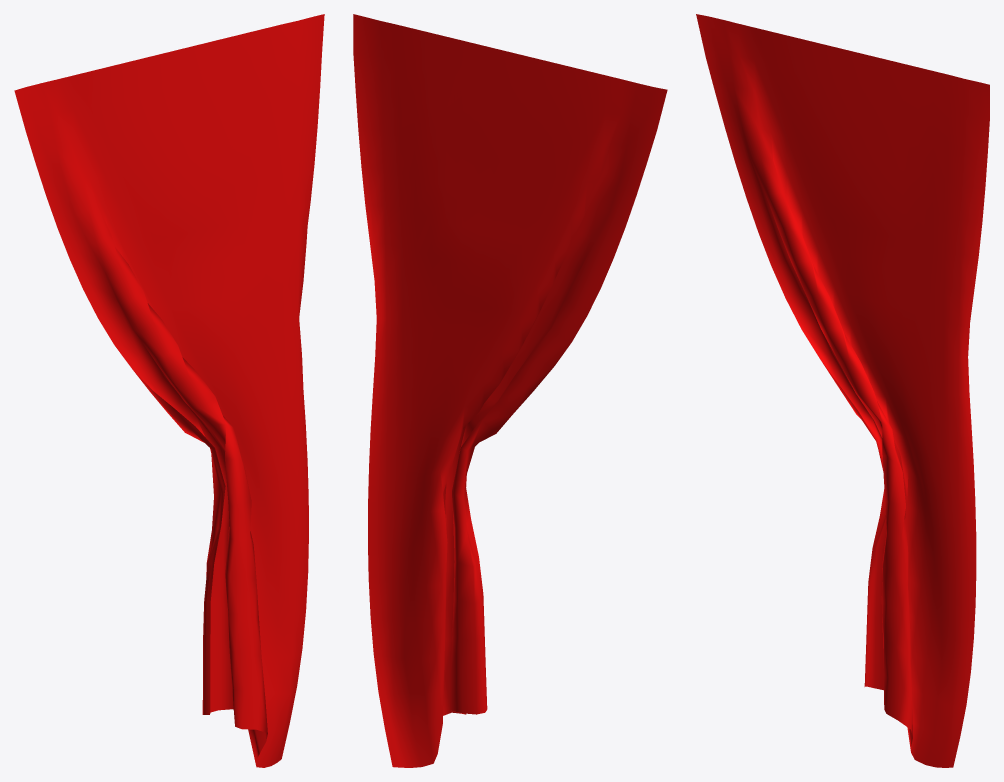
File: 47a6844c-ba1f-4b66-b47a-abc3ad21a939.glb
The picture shows the model from 3 angles, left to right: view 1: azimuth 30°, elevation 25°; view 2: azimuth 150°, elevation 25°; view 3: azimuth 330°, elevation 25°; orthographic projection. The views are drawn at different scales.
Parts seen in each view (by area): view 1: CurtainRightBrightRed; view 2: CurtainRightBrightRed; view 3: CurtainRightBrightRed.
Boxes of the visible parts, x1,y1,x2,y2 form: CurtainRightBrightRed: [14, 14, 324, 767]; CurtainRightBrightRed: [353, 14, 667, 767]; CurtainRightBrightRed: [696, 14, 989, 767].
Size of the model in its own units: 0.874 by 1.98 by 0.0844.
Materials: 1 (1 with a texture image).
